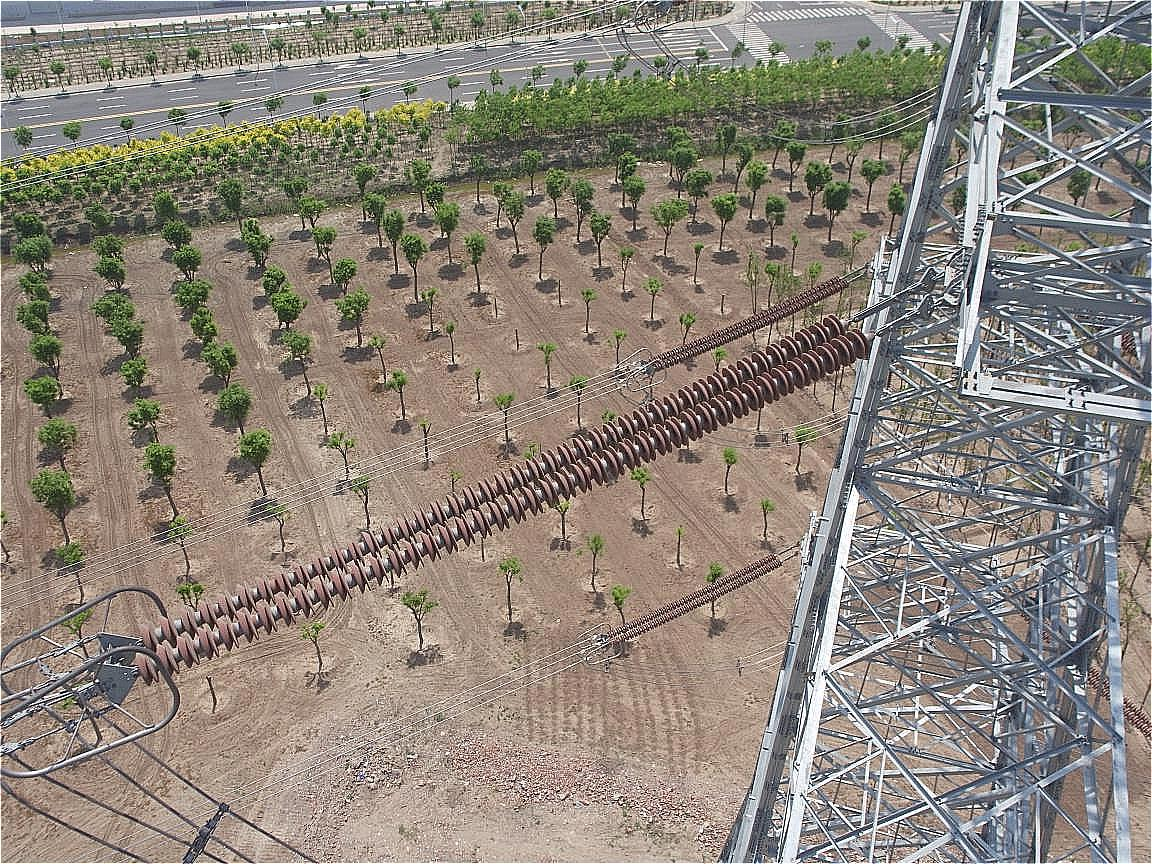insultor2: (79, 311, 909, 701)
